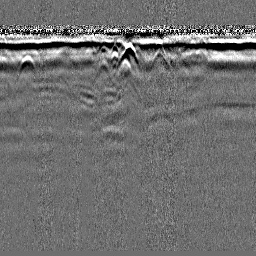cavity: (116, 42, 139, 69)
